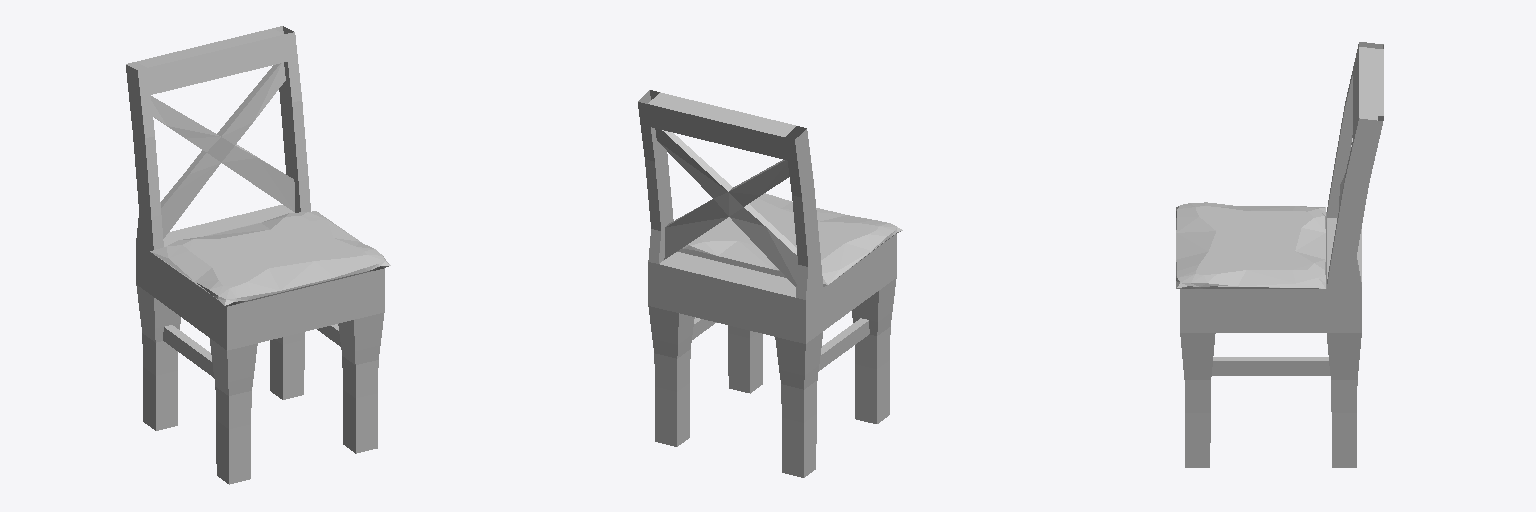
Rendered from Krzeslo2.obj.
3 views of the same model, side by side, from view 1: azimuth 30°, elevation 25°; view 2: azimuth 150°, elevation 25°; view 3: azimuth 270°, elevation 25° (orthographic).
Parts seen in each view (by area): view 1: Cube.004_Cube.012; view 2: Cube.004_Cube.012; view 3: Cube.004_Cube.012.
Boxes of the visible parts, x1,y1,x2,y2 form: Cube.004_Cube.012: [126, 26, 390, 484]; Cube.004_Cube.012: [638, 90, 902, 477]; Cube.004_Cube.012: [1176, 42, 1383, 467].
Size of the model in its own units: 1.1 by 2.23 by 1.19.